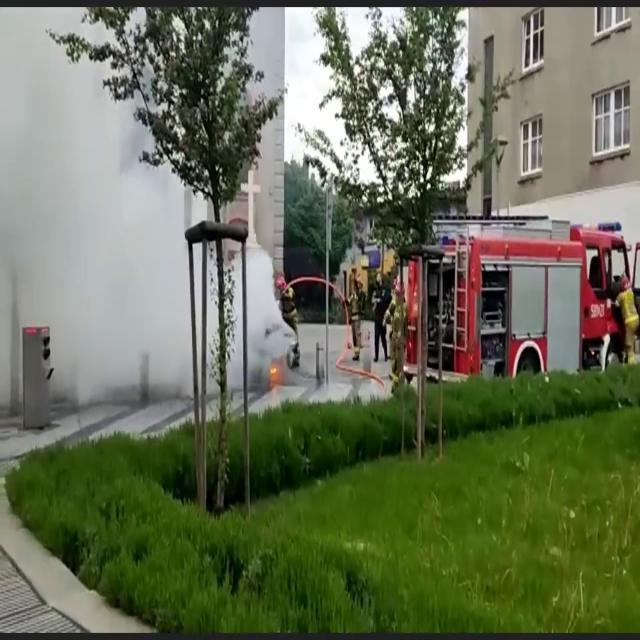Smoke: (0, 13, 280, 415)
